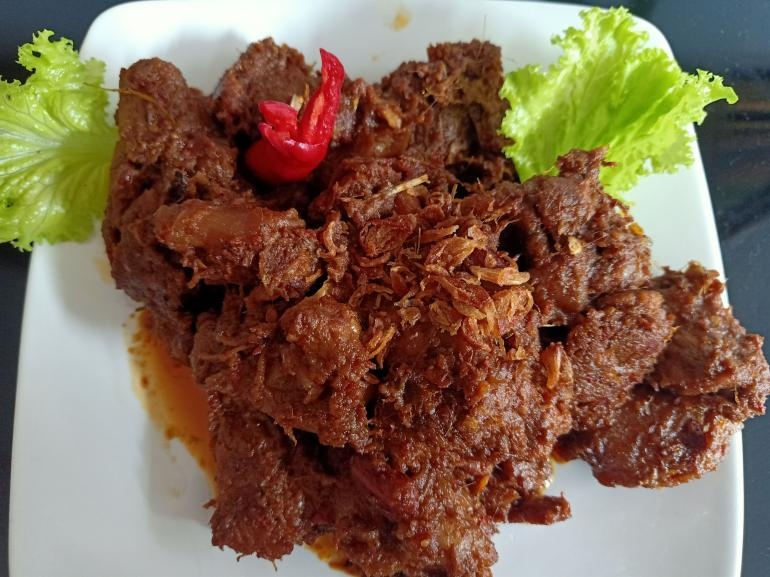rendang: (115, 198, 770, 577)
